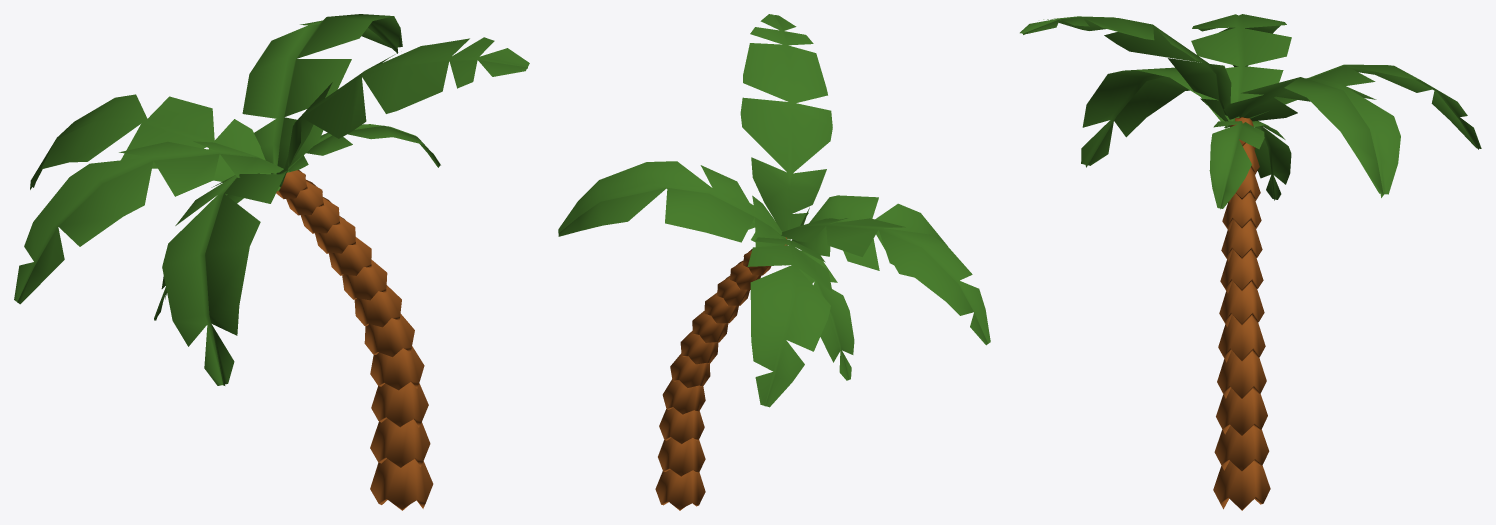
Rendered from SM_Palm_Tree_C.fbx.
3 renders of one model, left to right at view 1: azimuth 30°, elevation 25°; view 2: azimuth 150°, elevation 25°; view 3: azimuth 270°, elevation 25°, orthographic. The views are drawn at different scales.
Parts seen in each view (by area): view 1: SM_Palm_Tree_C.001; view 2: SM_Palm_Tree_C.001; view 3: SM_Palm_Tree_C.001.
Part boxes in pixels (x1=…): SM_Palm_Tree_C.001: x1=14, y1=14, x2=529, y2=510; SM_Palm_Tree_C.001: x1=558, y1=14, x2=990, y2=510; SM_Palm_Tree_C.001: x1=1020, y1=14, x2=1481, y2=510.
Bounding box in the file's own units: 1027 × 987 × 1128.
